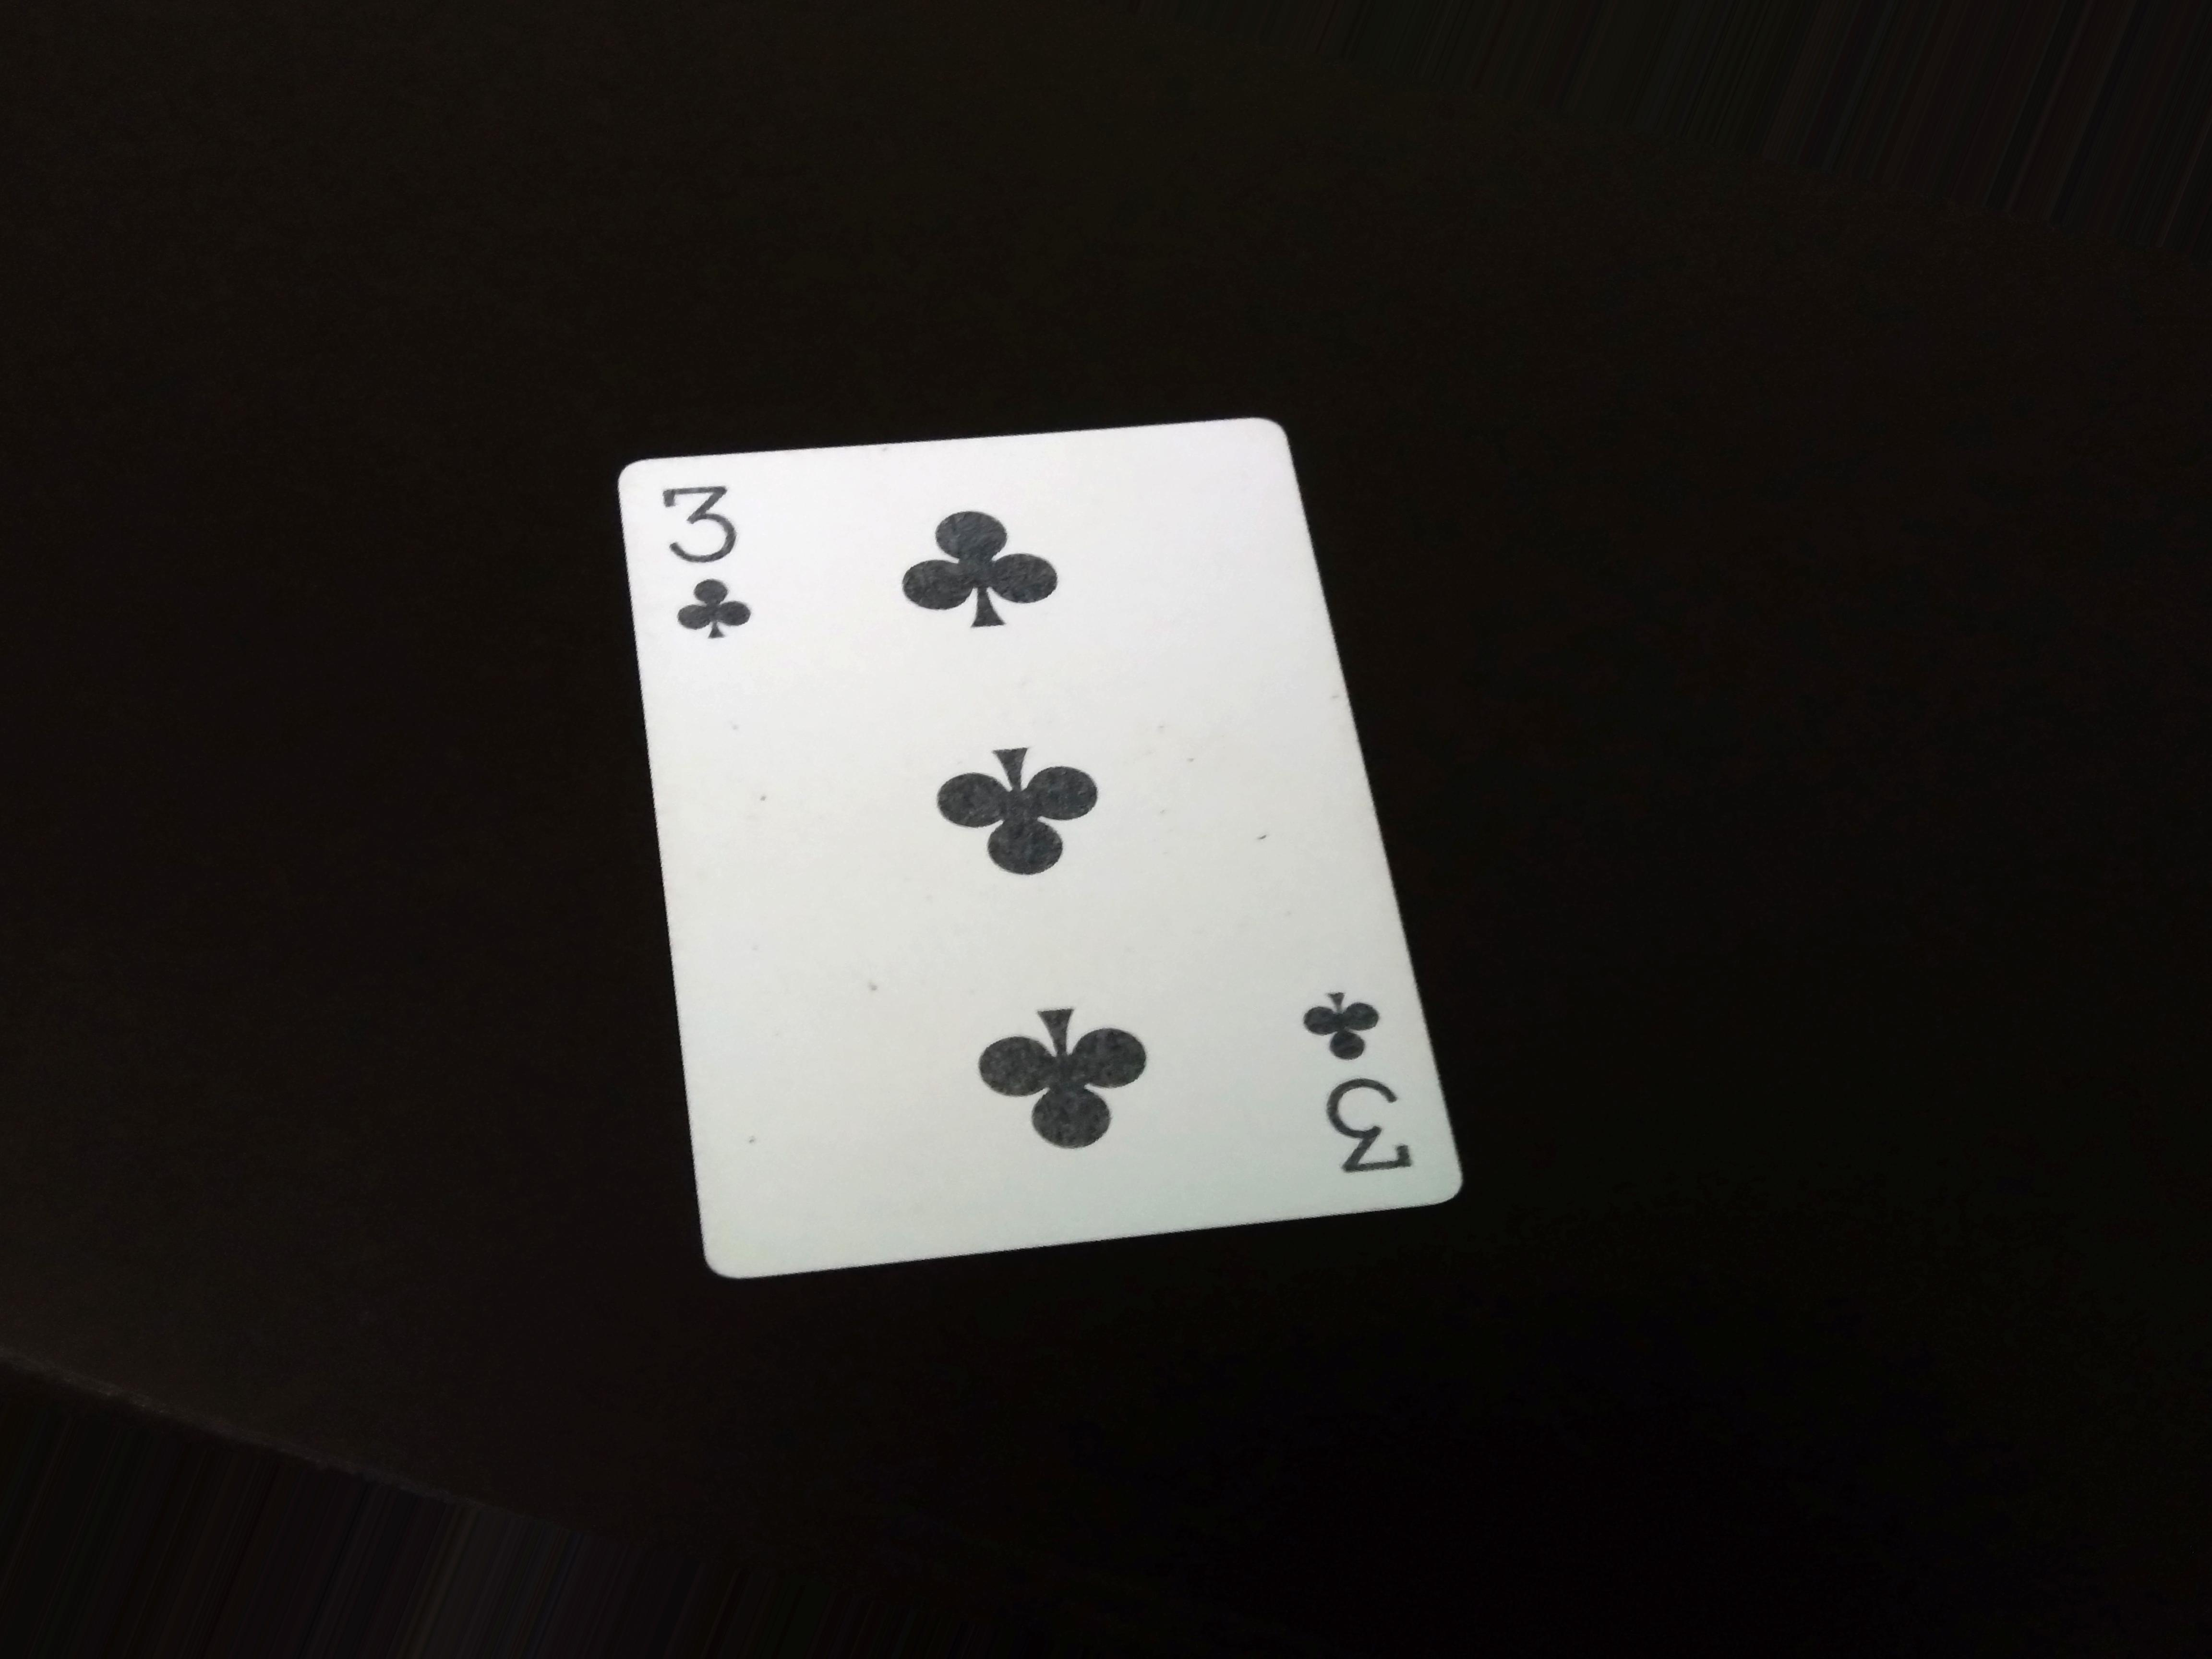3C: (634, 469, 787, 666)
